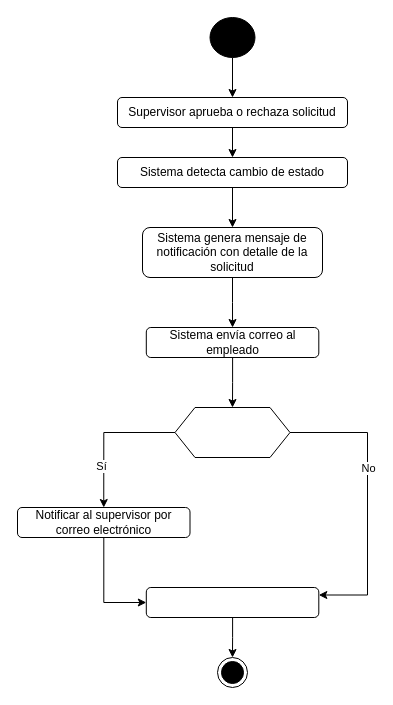
The diagram is 393 pixels wide and 705 high, and some of its shapes have lost their labels. The centre of each missing label's shape, as x and y in pixels:
"Enviar correo al supervisor?" belongs at point 232,432.
"Registrar acción en historial y auditoría" belongs at point 232,602.
